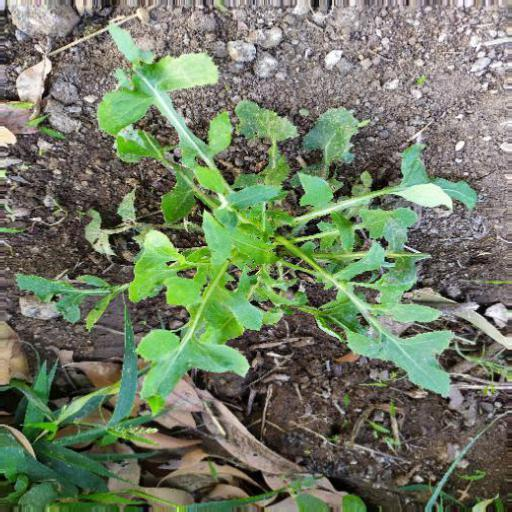weed: (79, 46, 471, 421)
